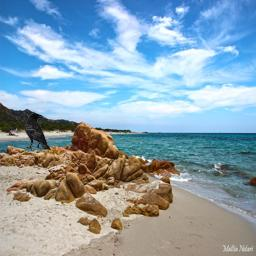Crow: (24, 113, 51, 151)
